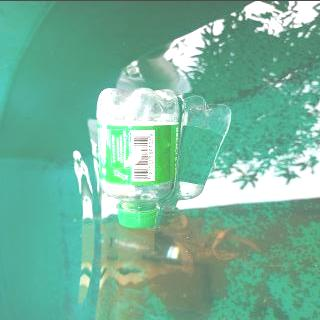bottle: (92, 86, 184, 229)
